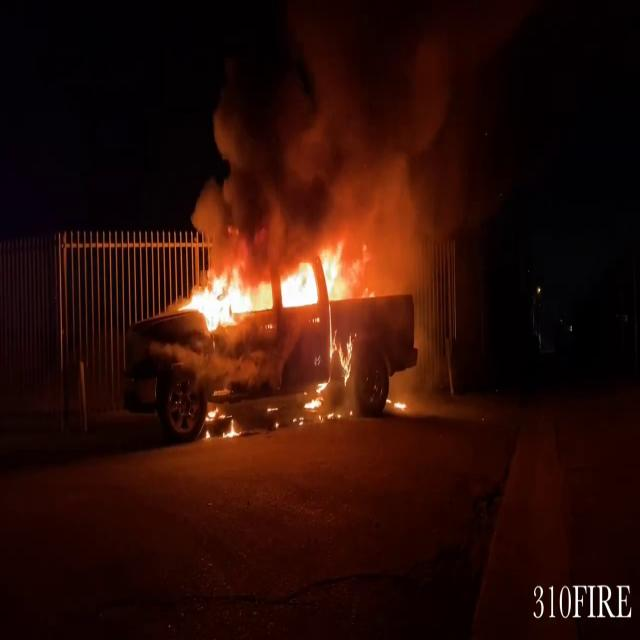Fire: (183, 240, 357, 330), (203, 398, 241, 442)
Smoke: (192, 1, 472, 275)
